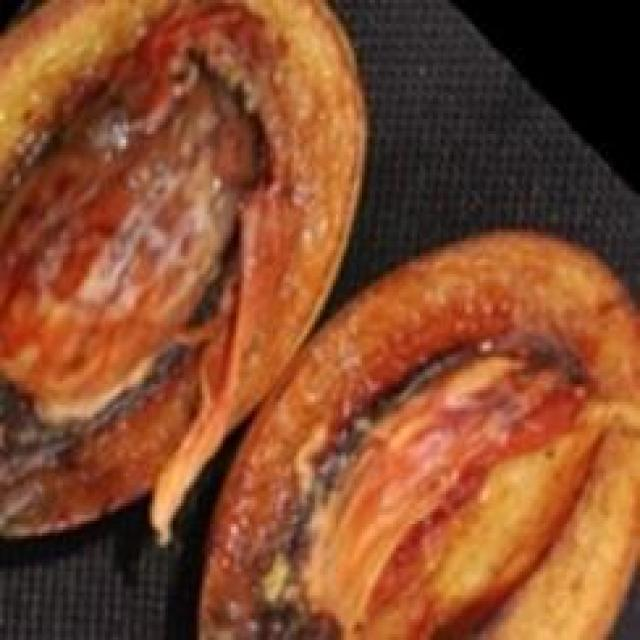damaged: (0, 0, 365, 539), (199, 232, 637, 637)
